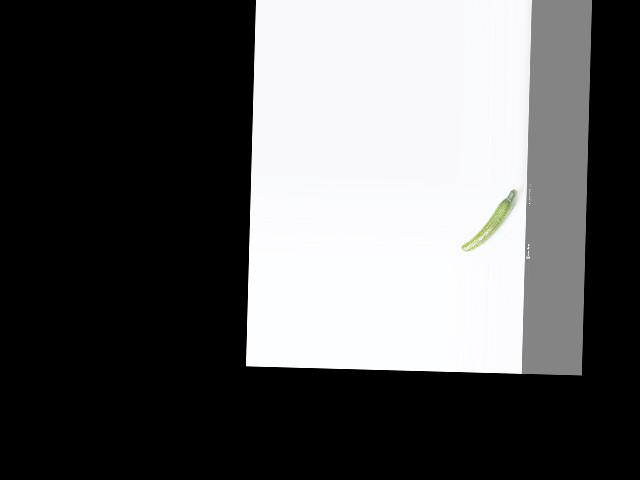cucumber: (461, 186, 517, 252)
